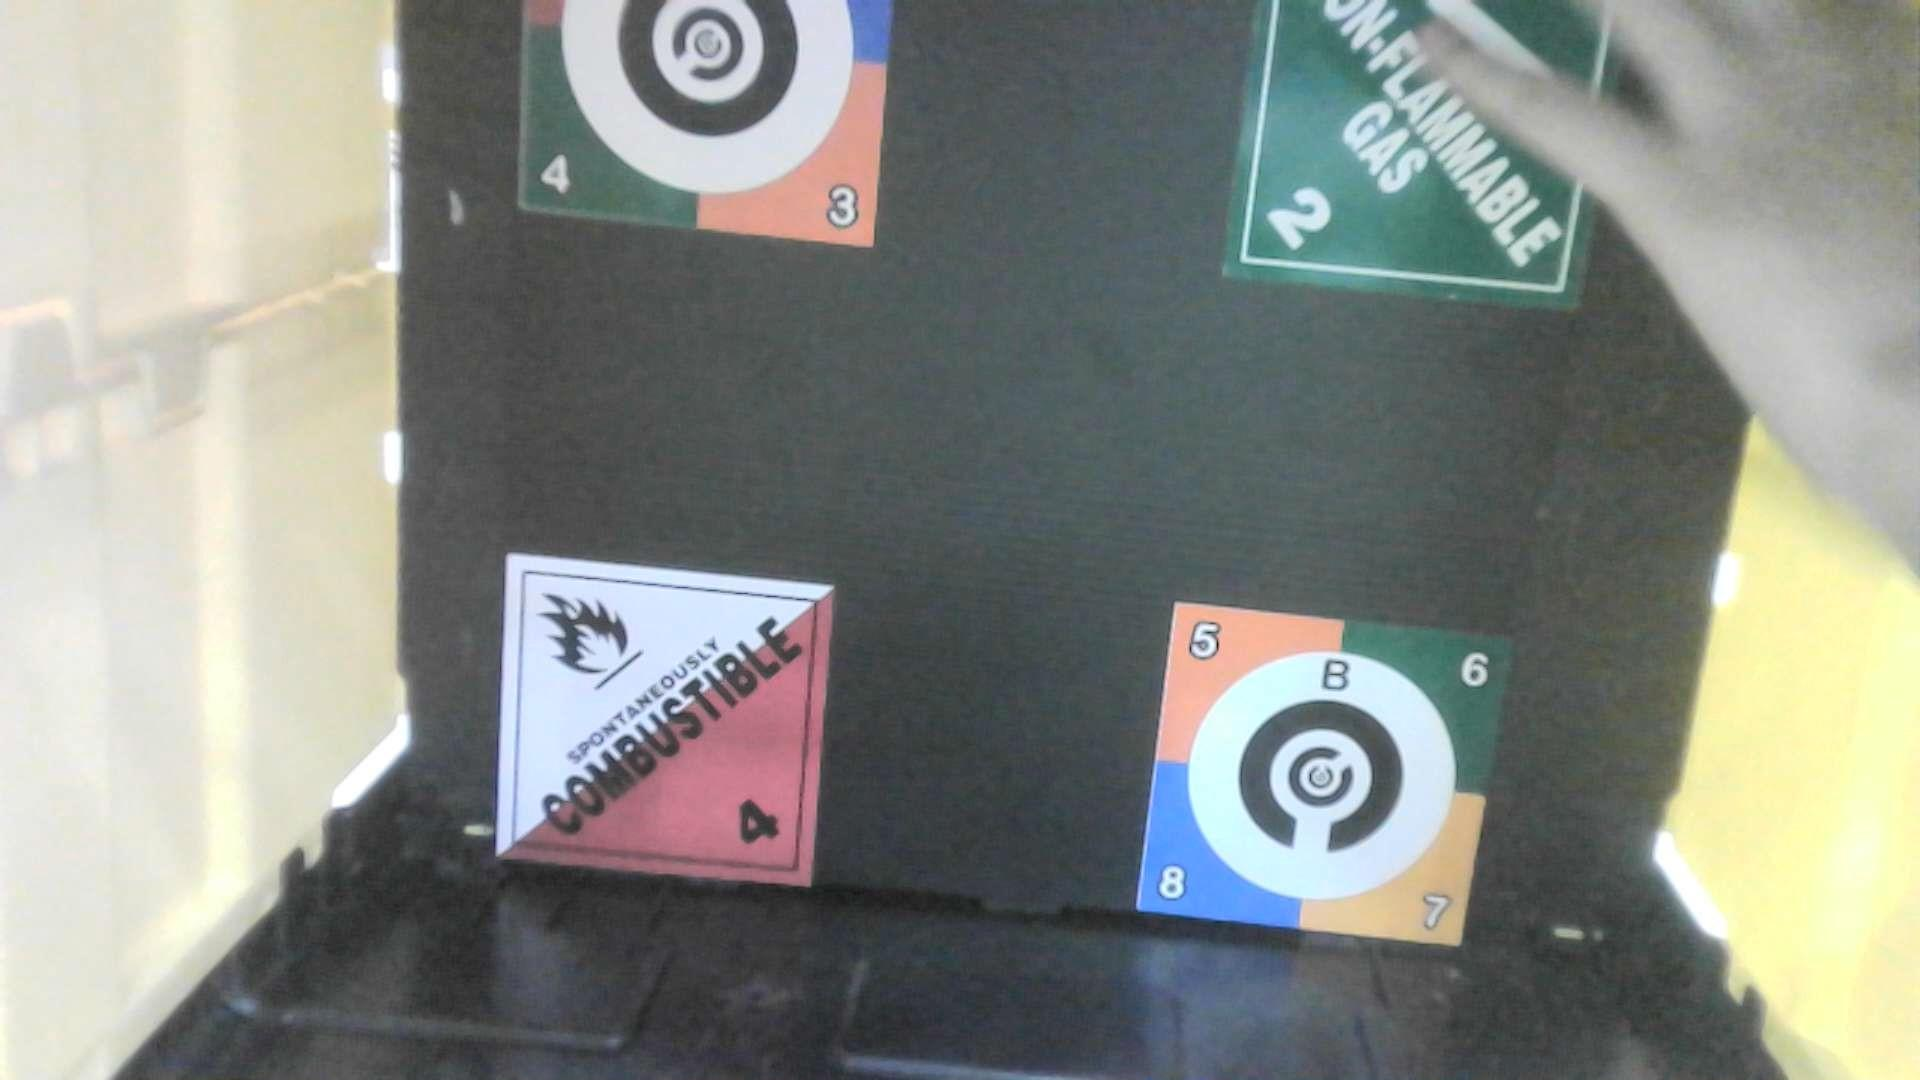non-flammable-gas: (1201, 3, 1636, 319)
spontaneously-combustible: (464, 549, 847, 894)
